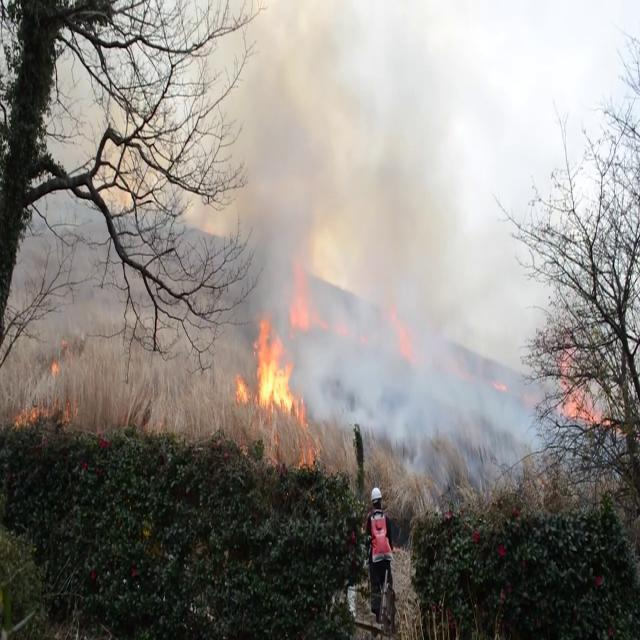Fire: (232, 301, 312, 420)
Smoke: (182, 6, 554, 466)
